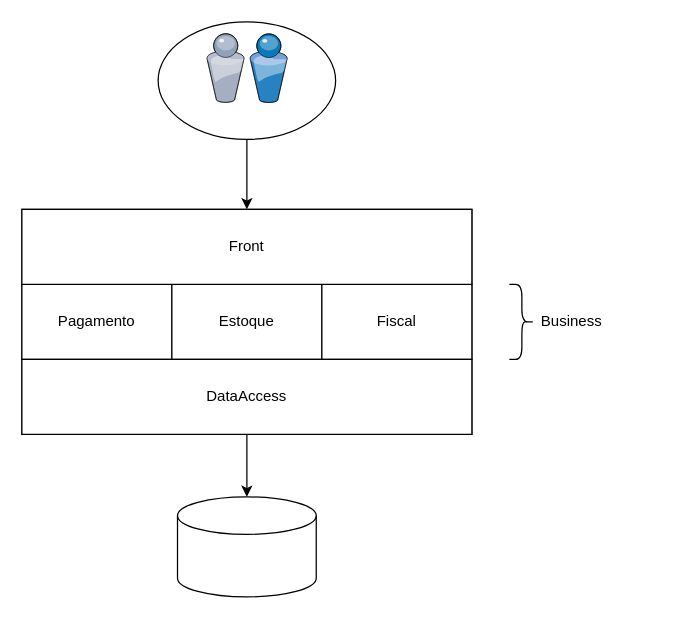
This 694x619 diagram has some shape labels left out. The box of each missing label's shape, as (x1, y1, x2, y2) in pixels:
Banco de dados: (176, 496, 316, 597)
Users: (206, 33, 287, 102)
